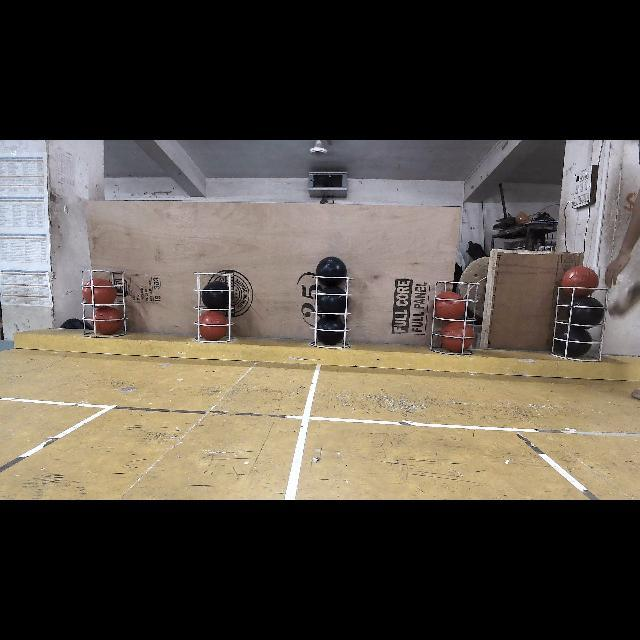P: (556, 326, 592, 358), (316, 256, 346, 288), (202, 282, 232, 310), (318, 288, 348, 314), (316, 318, 344, 344), (573, 300, 601, 326)
R: (561, 266, 599, 297), (440, 322, 472, 350), (86, 280, 120, 306), (434, 294, 464, 320), (198, 312, 226, 338), (91, 310, 123, 332)
S: (546, 283, 608, 367), (306, 271, 356, 349), (432, 276, 481, 354), (80, 267, 128, 337), (191, 270, 235, 344)
